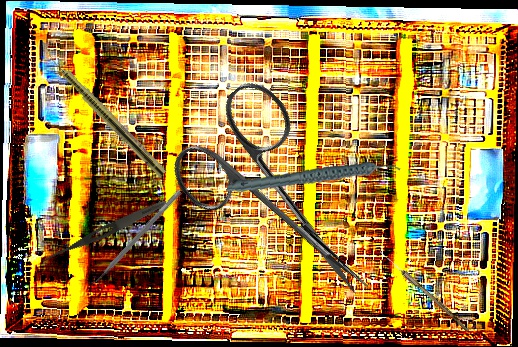Dressing Forceps: (40, 196, 169, 268)
Handpiece: (40, 46, 169, 179), (225, 146, 402, 212)
Iris Scissors: (156, 72, 414, 335)
Spatula Surgical: (87, 185, 182, 290)
Surgical Spoon: (377, 249, 472, 333)
